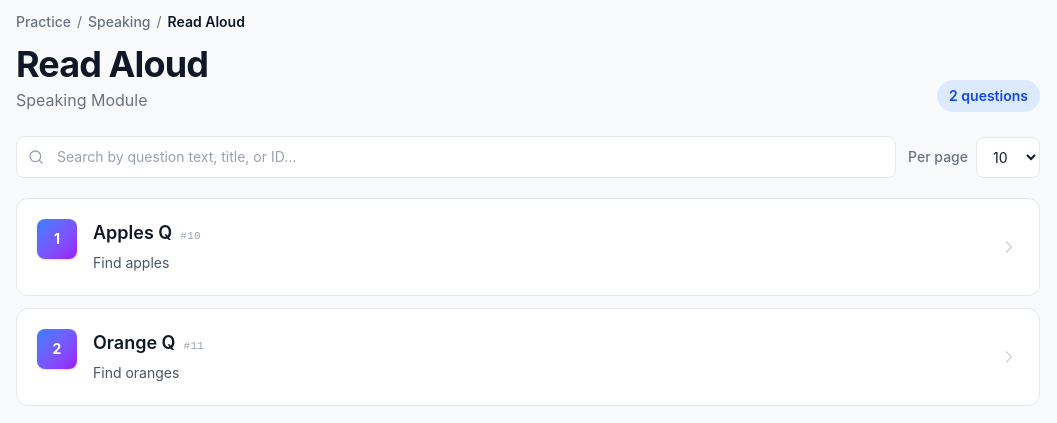
it: SectionQuestionsPage › filters by search term
Expected: the text "Apples Q" is shown, [93,222,172,243]
Type "apples" into the search field with placeholder "Search by question text, title, or ID..." at point(456, 157), box [16,136,896,178]
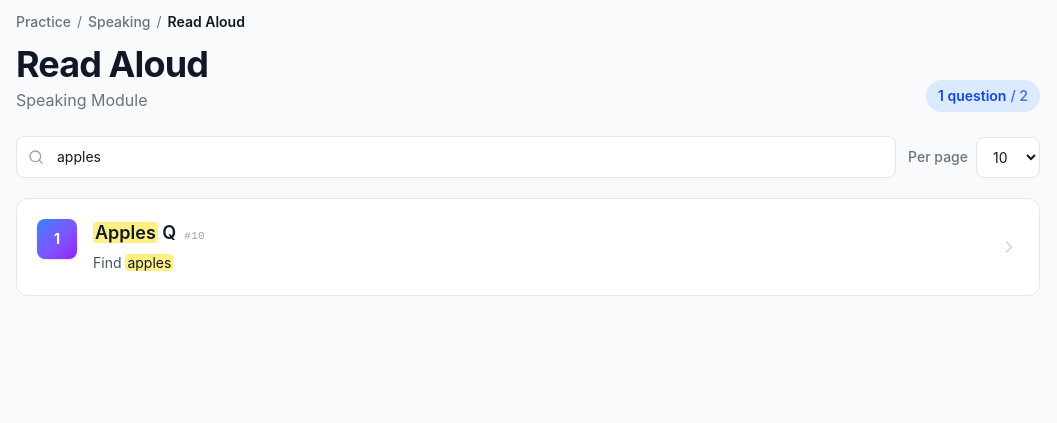
Expected: the text "Apples" is shown, [93,222,158,243]
Result: the link "Orange Q" is gone
